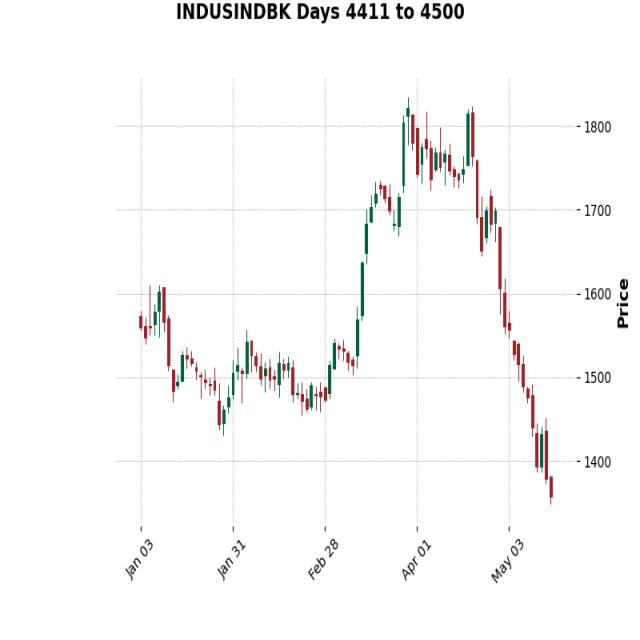Double Top: (373, 90, 489, 207)
